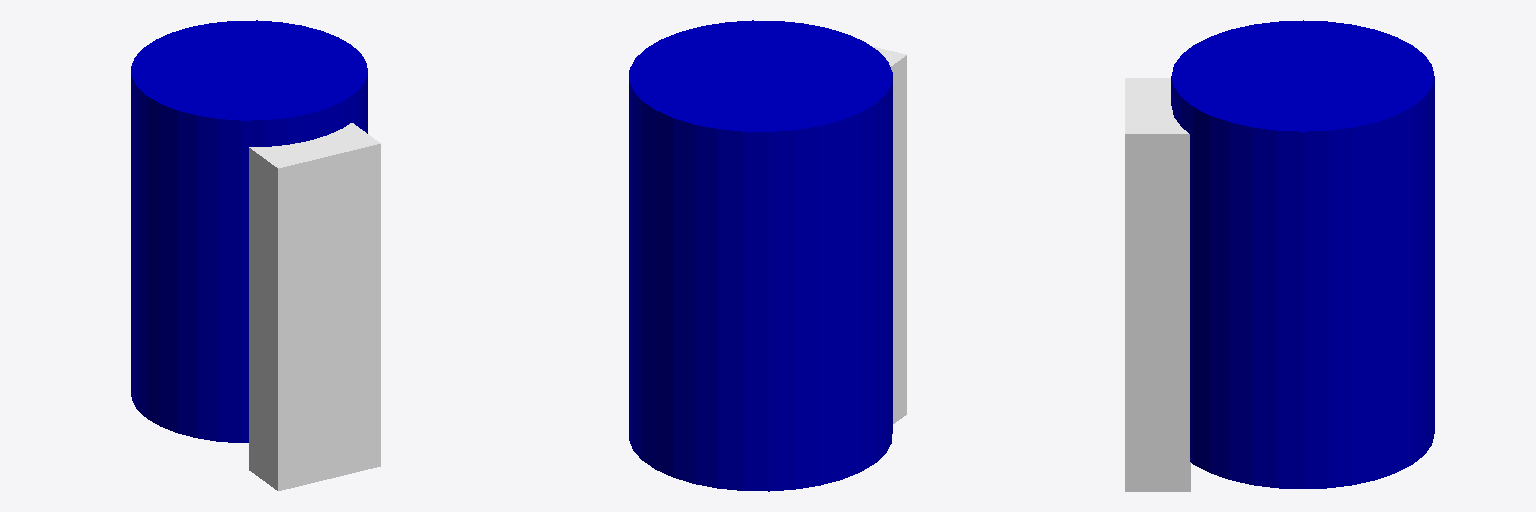
The robot description file, URDF, robot "movable":
<?xml version="1.0"?>
<robot name="movable">

  <material name="blue">
	  <color rgba="0 0 0.8 1"/>
  </material>
  <material name="white">
	  <color rgba="1 1 1 1"/>
  </material>

  <link name="base_link">
    <visual>
      <geometry>
        <cylinder length="0.6" radius="0.2"/>
      </geometry>
      <material name="blue"/>
    </visual>
  </link>



  <link name="right_leg">
    <visual>
      <geometry>
	<box size ="0.6 0.1 0.2"/>
      </geometry>
      <origin rpy = "0 1.57075 0" xyz="0 0 -0.3"/>
      <material name="white"/>
    </visual>
  </link>


  <joint name ="base_to_right_leg" type="continuous">
    <parent link="base_link"/>
    <child link="right_leg"/>
    <axis xyz="0 1 0"/>
    <origin xyz="0 -0.22 0.25"/>
  </joint>	    
</robot>

--- What the picture shows (computed from the rendered views, not written in the file) ---
The picture shows the robot from 3 angles, left to right: view 1: azimuth 30°, elevation 25°; view 2: azimuth 150°, elevation 25°; view 3: azimuth 270°, elevation 25°; orthographic projection.
Robot: movable — 2 links, 1 joints (1 continuous); root link base_link; default pose: every joint at zero.
Visible links, largest first — view 1: base_link, right_leg; view 2: base_link, right_leg; view 3: base_link, right_leg.
Boxes of the visible links, box(x1,y1,x2,y2) form: base_link: box(131, 20, 367, 442); right_leg: box(249, 123, 380, 490); base_link: box(629, 20, 892, 491); right_leg: box(872, 46, 906, 423); base_link: box(1171, 20, 1434, 488); right_leg: box(1125, 78, 1190, 491).
Bounding box of the posed robot: 0.4 × 0.47 × 0.65 m (x, y, z).
Geometry: primitives only (box / cylinder / sphere), no mesh files.